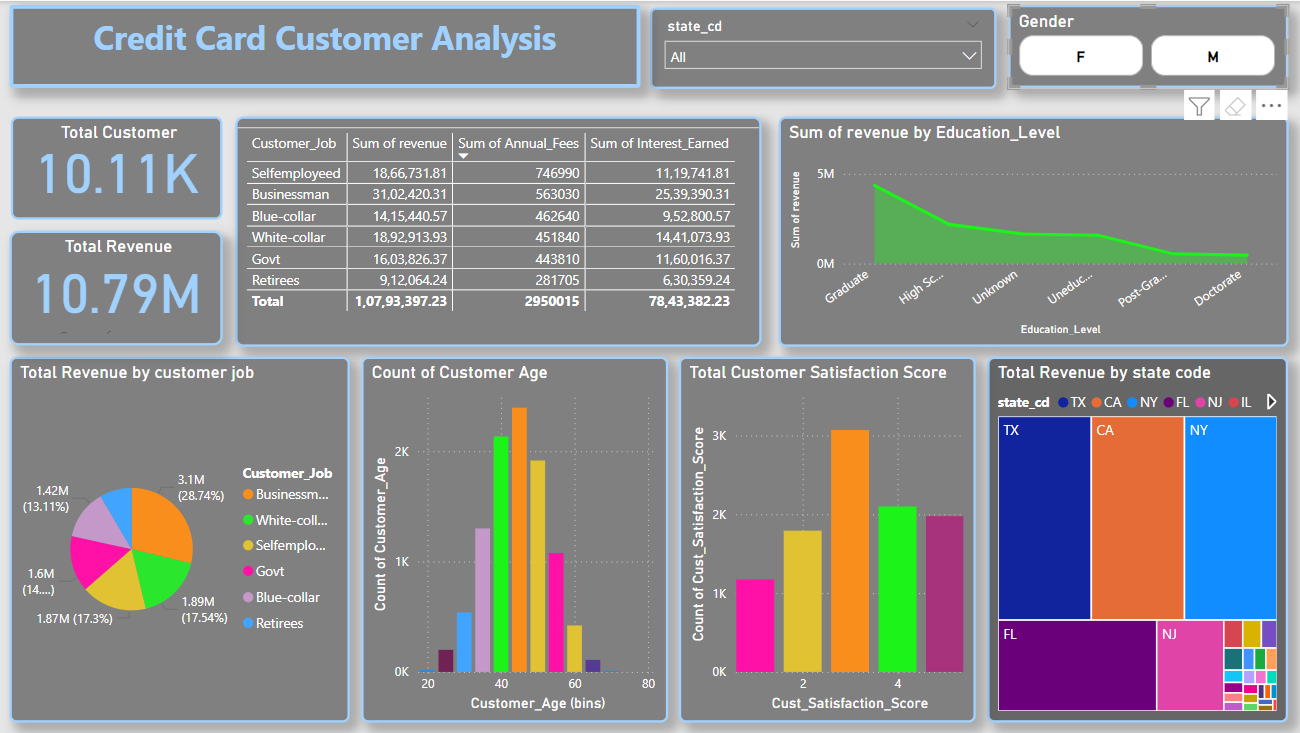

This screenshot's page, from the dashboard's own definition file:
{"tool":"powerbi","page":{"name":"Page 1","canvas":[1280,720],"ordinal":0},"visuals":[{"type":"stackedAreaChart","fields":{"Category":["customer.Education_Level"],"Y":["Sum(credit_card.revenue)"]},"box":[766,113,501.3,226.1],"z":0},{"type":"tableEx","fields":{"Values":["customer.Customer_Job","Sum(credit_card.revenue)","Sum(credit_card.Annual_Fees)","Sum(credit_card.Interest_Earned)"]},"box":[232,113,517.6,226.1],"z":1000},{"type":"treemap","title":"Total Revenue by state code","fields":{"Group":["customer.state_cd"],"Values":["Sum(credit_card.revenue)"]},"box":[971.3,349.5,296,360],"z":2000},{"type":"pieChart","title":"Total Revenue by customer job","fields":{"Category":["customer.Customer_Job"],"Y":["Sum(credit_card.revenue)"]},"box":[10.4,349.5,334.7,360],"z":3000},{"type":"columnChart","title":"Count of Customer Age","fields":{"Y":["CountNonNull(customer.Customer_Age)"],"Category":["customer.Customer_Age (bins)"]},"box":[355.5,349.5,301.9,360],"z":4000},{"type":"lineClusteredColumnComboChart","title":"Total Customer Satisfaction Score","fields":{"Category":["customer.Cust_Satisfaction_Score"],"Y":["CountNonNull(customer.Cust_Satisfaction_Score)"]},"box":[667.8,349.5,291.5,360],"z":5000},{"type":"slicer","fields":{"Values":["customer.state_cd"]},"box":[639.6,5.9,340.6,80.3],"z":6000},{"type":"advancedSlicerVisual","fields":{"Values":["customer.Gender"]},"box":[992.1,4.5,275.2,81.8],"z":7000},{"type":"textbox","box":[10.4,4.5,620.2,81.8],"z":8000},{"type":"card","title":"Total Customer","fields":{"Values":["CountNonNull(credit_card.revenue)"]},"box":[11.9,113,208.2,101.1],"z":9000},{"type":"card","title":"Total Revenue","fields":{"Values":["Sum(credit_card.revenue)"]},"box":[10.4,226.1,209.7,113],"z":10000}]}

Visuals, with their boxes in screenshot pixels (x1, y1, x2, y2), scaled from the page's 1280x720 canvas onto the 1300x733 screenshot:
stackedAreaChart - customer.Education_Level x Sum(credit_card.revenue): rect(778, 115, 1287, 345)
tableEx - customer.Customer_Job x Sum(credit_card.revenue): rect(236, 115, 761, 345)
"Total Revenue by state code" treemap: rect(986, 356, 1287, 722)
"Total Revenue by customer job" pieChart: rect(11, 356, 350, 722)
"Count of Customer Age" columnChart: rect(361, 356, 668, 722)
"Total Customer Satisfaction Score" lineClusteredColumnComboChart: rect(678, 356, 974, 722)
slicer - customer.state_cd: rect(650, 6, 996, 88)
advancedSlicerVisual - customer.Gender: rect(1008, 5, 1287, 88)
textbox: rect(11, 5, 640, 88)
"Total Customer" card: rect(12, 115, 224, 218)
"Total Revenue" card: rect(11, 230, 224, 345)
